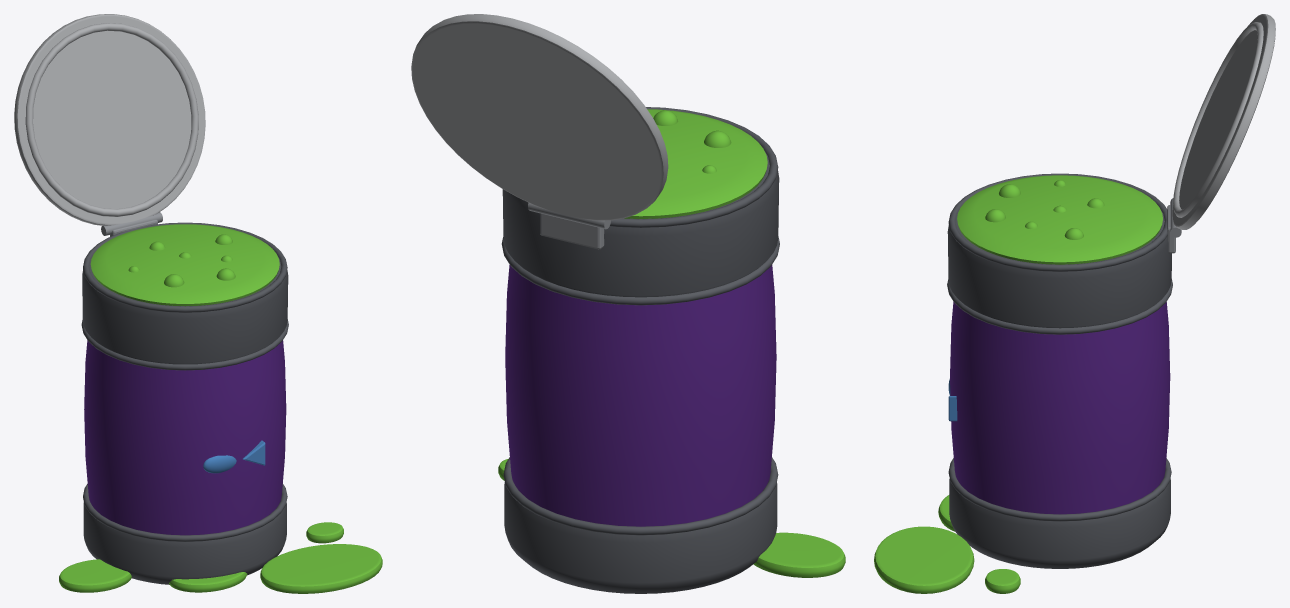
The model's file is gen_toxic_can.mobile-high.glb.
The picture shows the model from 3 angles, left to right: view 1: azimuth 30°, elevation 25°; view 2: azimuth 150°, elevation 25°; view 3: azimuth 270°, elevation 25°; orthographic projection. The views are drawn at different scales.
Visible parts, largest first — view 1: gen_toxic_can; view 2: gen_toxic_can; view 3: gen_toxic_can.
Part boxes in pixels (<box>): gen_toxic_can: <box>14,14,382,593</box>; gen_toxic_can: <box>411,14,845,593</box>; gen_toxic_can: <box>874,14,1275,593</box>.
Size of the model in its own units: 0.47 by 0.772 by 0.5616.
1 material, 1 textured.
